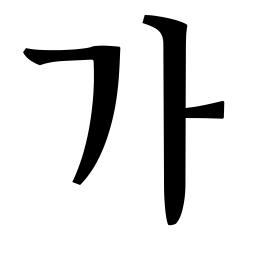Gaji: (152, 91, 204, 139)
